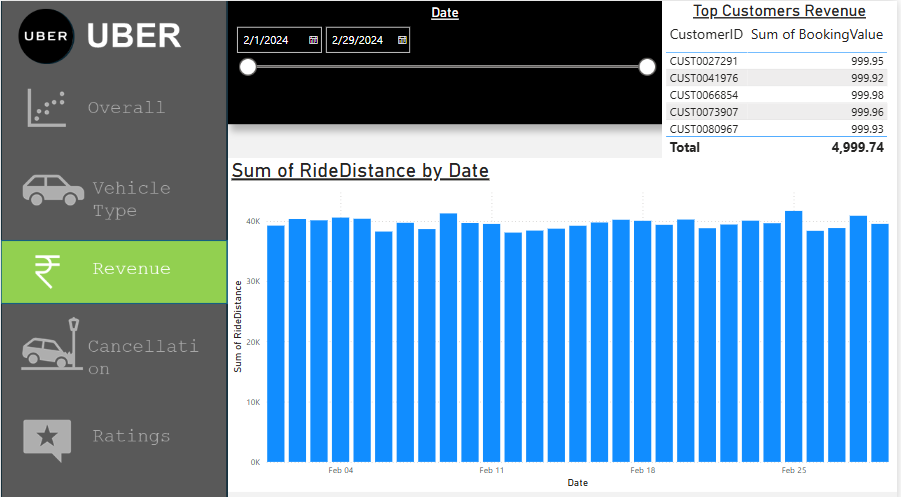

The dashboard page shown, as its layout file describes it:
{"tool":"powerbi","page":{"name":"Revenue","canvas":[1280,720],"ordinal":2},"visuals":[{"type":"actionButton","box":[0,235.3,324.6,83.6],"z":0},{"type":"actionButton","box":[0,341.6,324.6,87.9],"z":1000},{"type":"actionButton","box":[0,117.6,324.6,79.4],"z":2000},{"type":"actionButton","box":[0,442.2,324.6,110.6],"z":3000},{"type":"actionButton","box":[0,589.6,324.6,78],"z":4000},{"type":"columnChart","fields":{"Y":["Sum(Bengaluru_Rides_Data.RideDistance)"],"Category":["Bengaluru_Rides_Data.Date"]},"box":[324.3,224.3,955.7,477.1],"z":5000},{"type":"slicer","title":"Date","fields":{"Values":["Bengaluru_Rides_Data.Date"]},"box":[324.3,0,620,175.7],"z":6000},{"type":"tableEx","title":"Top Customers Revenue","fields":{"Values":["Bengaluru_Rides_Data.CustomerID","Sum(Bengaluru_Rides_Data.BookingValue)"]},"box":[944.3,0,335.7,235.7],"z":7000}]}

Visuals, with their boxes in screenshot pixels (x1, y1, x2, y2), scaled from the page's 1280x720 canvas onto the 901x497 screenshot:
actionButton: 0 162 228 220
actionButton: 0 236 228 296
actionButton: 0 81 228 136
actionButton: 0 305 228 382
actionButton: 0 407 228 461
columnChart - Sum(Bengaluru_Rides_Data.RideDistance) x Bengaluru_Rides_Data.Date: 228 155 900 484
"Date" slicer: 228 0 665 121
"Top Customers Revenue" tableEx: 665 0 900 163
